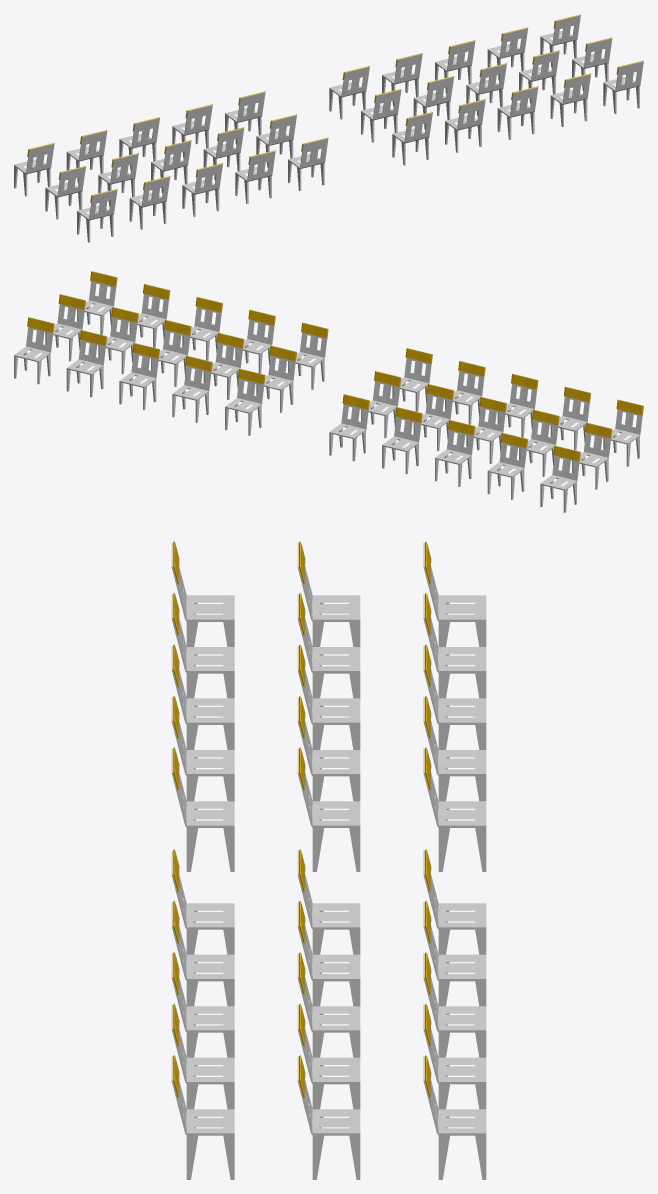
The model's file is 30ChairSet.fbx.
3 renders of one model, top to bottom at view 1: azimuth 30°, elevation 25°; view 2: azimuth 150°, elevation 25°; view 3: azimuth 270°, elevation 25°, orthographic. The views are drawn at different scales.
Visible parts, largest first — view 1: Cube.092, Cube.093; view 2: Cube.093, Cube.092; view 3: Cube.093, Cube.092.
Boxes of the visible parts, bbox=[...] form: Cube.092: bbox=[14, 91, 328, 242]; Cube.093: bbox=[329, 14, 643, 165]; Cube.093: bbox=[14, 271, 328, 435]; Cube.092: bbox=[329, 348, 643, 512]; Cube.093: bbox=[171, 849, 486, 1179]; Cube.092: bbox=[171, 541, 486, 871].
Bounding box in the file's own units: 647 × 55.99 × 159.
